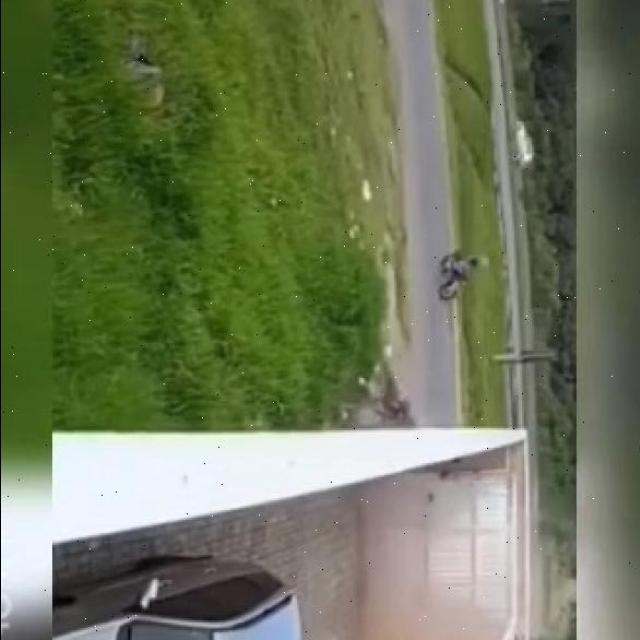accident: (356, 351, 424, 453)
